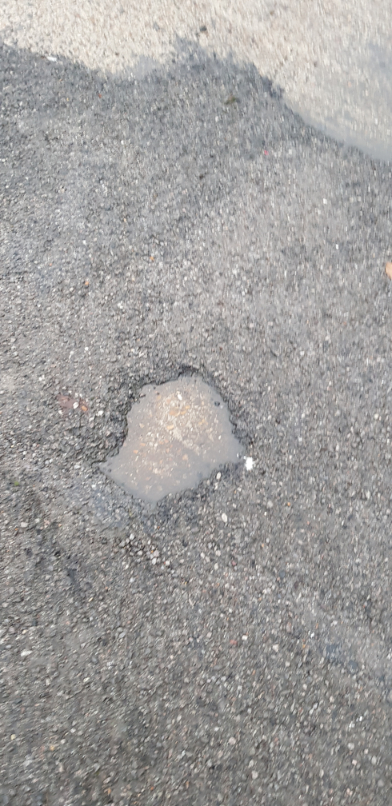pothole: (86, 361, 254, 518)
